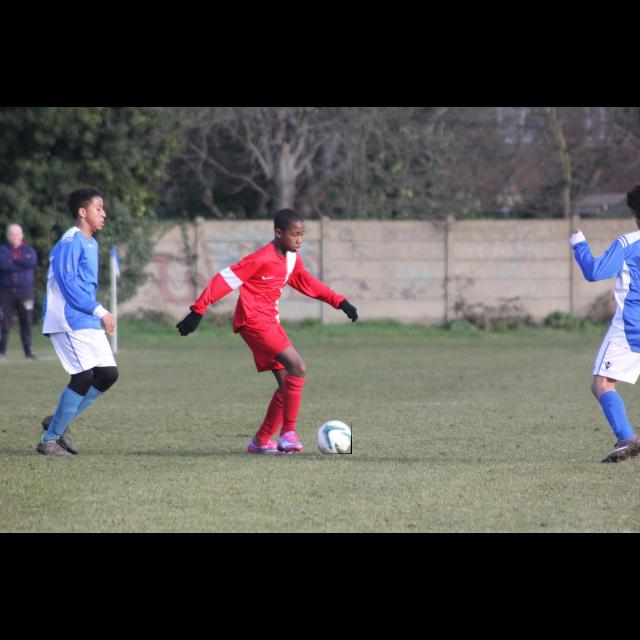Football: (318, 420, 352, 454)
